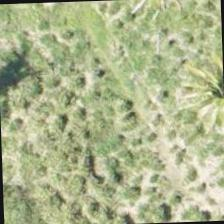Kelapa_Sawit: (172, 55, 223, 149)
